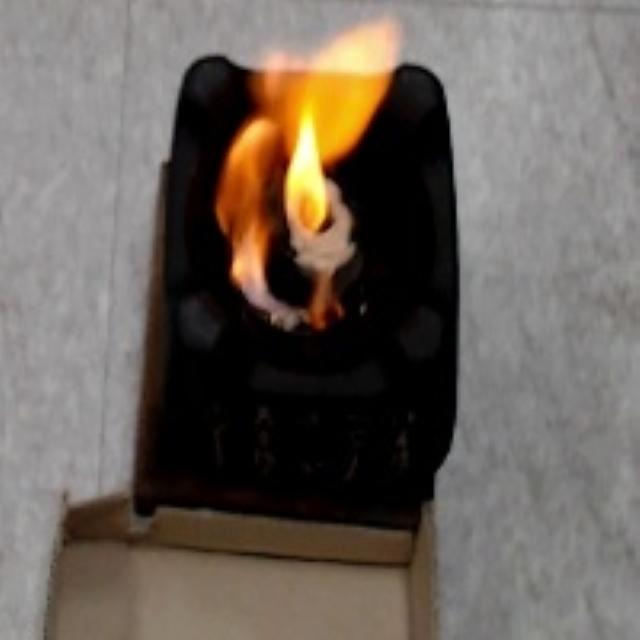Fire: (205, 9, 409, 333)
